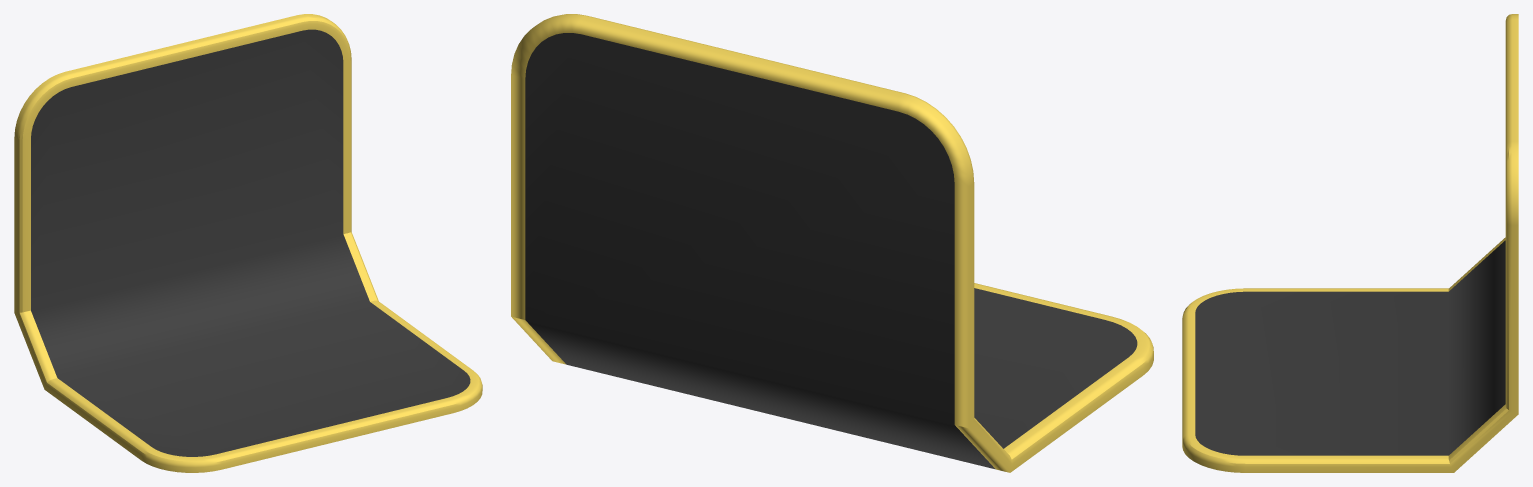
The model's file is StageR.fbx.
The picture shows the model from 3 angles, left to right: view 1: azimuth 30°, elevation 25°; view 2: azimuth 150°, elevation 25°; view 3: azimuth 270°, elevation 25°; orthographic projection. The views are drawn at different scales.
Visible parts, largest first — view 1: polySurface1, polySurface2; view 2: polySurface1, polySurface2; view 3: polySurface1, polySurface2.
Part boxes in pixels (x1,y1,x2,y2): polySurface1: (31, 29, 470, 456); polySurface2: (14, 14, 482, 472); polySurface1: (525, 33, 1137, 469); polySurface2: (511, 14, 1153, 472); polySurface1: (1195, 240, 1505, 455); polySurface2: (1182, 14, 1518, 472).
Size of the model in its own units: 6.4 by 5.2 by 5.2.
